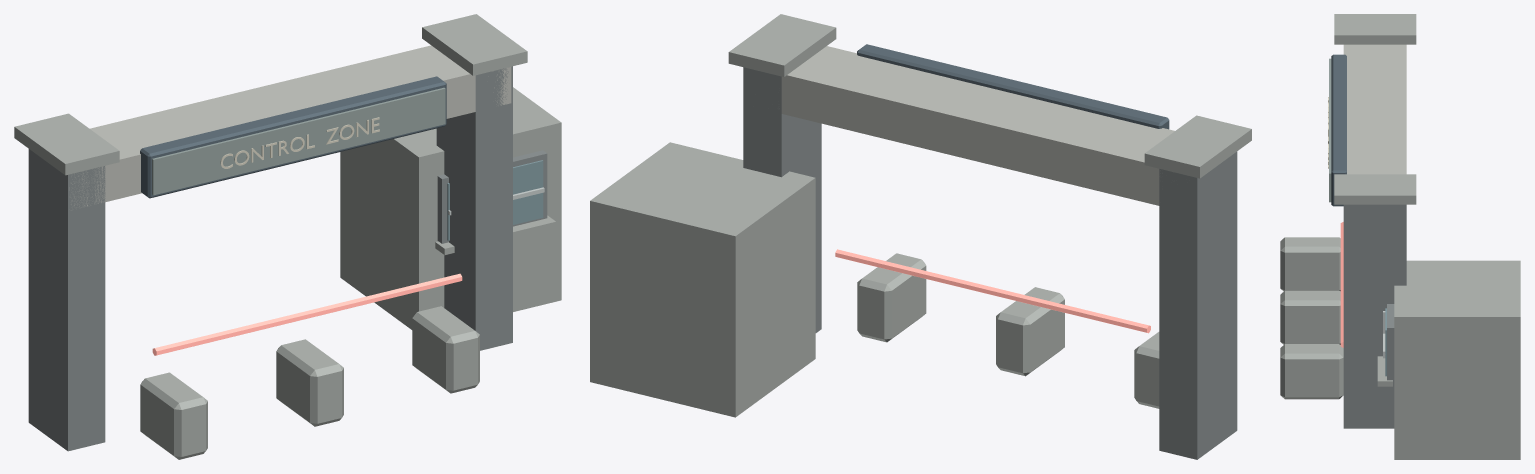
The model's file is SM_ENV_Building_09_Checkpoint.glb.
3 renders of one model, left to right at view 1: azimuth 30°, elevation 25°; view 2: azimuth 150°, elevation 25°; view 3: azimuth 270°, elevation 25°, orthographic. The views are drawn at different scales.
Visible parts, largest first — view 1: SM_ENV_Building_09_Checkpoint; view 2: SM_ENV_Building_09_Checkpoint; view 3: SM_ENV_Building_09_Checkpoint.
Part boxes in pixels (left/top/right/bottom): SM_ENV_Building_09_Checkpoint: left=14, top=14, right=561, bottom=459; SM_ENV_Building_09_Checkpoint: left=590, top=14, right=1251, bottom=459; SM_ENV_Building_09_Checkpoint: left=1280, top=14, right=1520, bottom=459.
Bounding box in the file's own units: 7.85 × 4.13 × 3.8.
